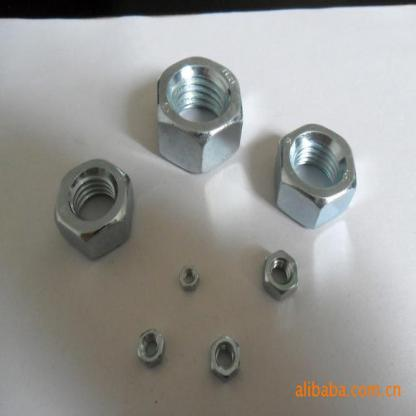FOD: (153, 55, 246, 174), (270, 121, 356, 230), (52, 156, 135, 264), (259, 249, 300, 302), (206, 333, 242, 384), (133, 324, 166, 370), (177, 261, 202, 292)
